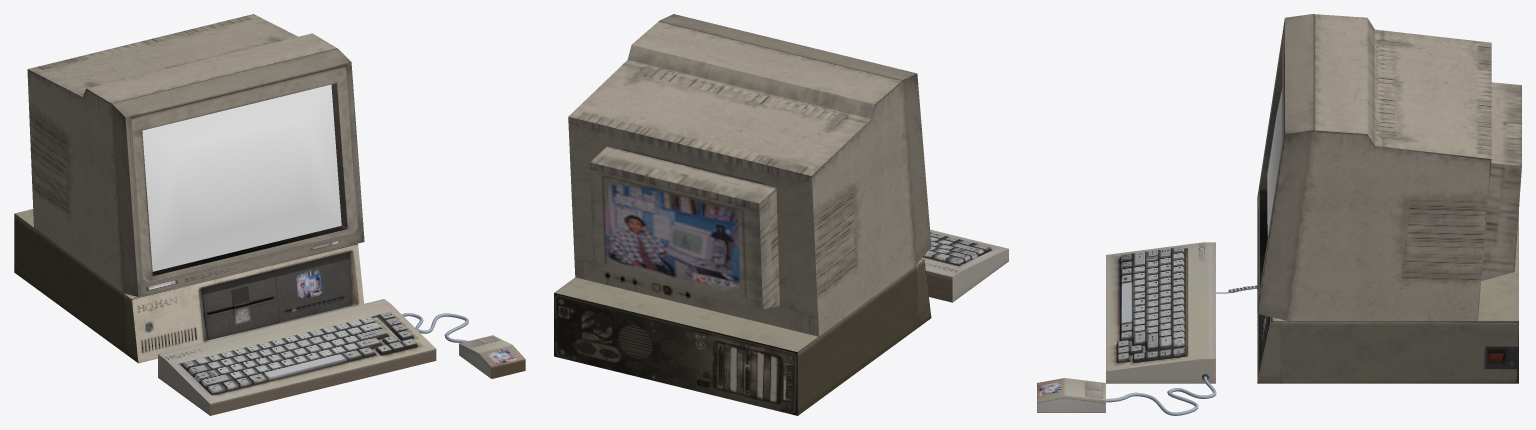
Rendered from computerCustom.glb.
3 views of the same model, side by side, from view 1: azimuth 30°, elevation 25°; view 2: azimuth 150°, elevation 25°; view 3: azimuth 270°, elevation 25° (orthographic). The views are drawn at different scales.
Parts seen in each view (by area): view 1: Cube.001; view 2: Cube.001; view 3: Cube.001.
Part boxes in pixels (left/top/right/bottom): Cube.001: left=14, top=14, right=525, bottom=415; Cube.001: left=554, top=14, right=1008, bottom=415; Cube.001: left=1037, top=14, right=1521, bottom=415.
Size of the model in its own units: 2.57 by 2.03 by 3.52.
Materials: 7 (4 with a texture image).
